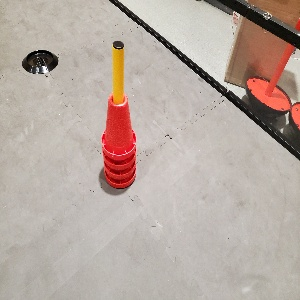Red_4: (93, 92, 137, 190)
